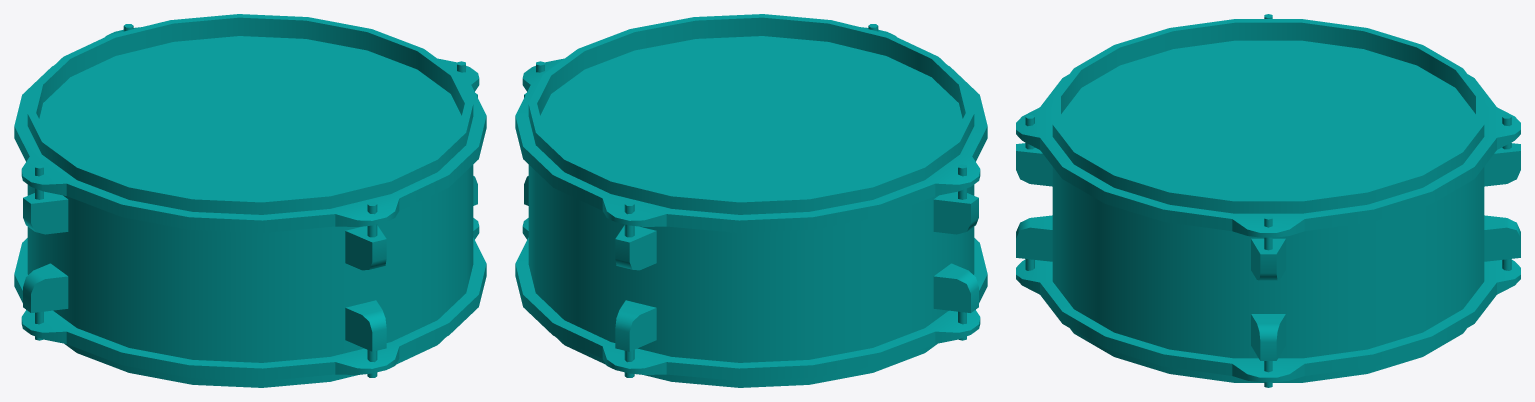
The model's file is drum1.fbx.
The picture shows the model from 3 angles, left to right: view 1: azimuth 30°, elevation 25°; view 2: azimuth 150°, elevation 25°; view 3: azimuth 270°, elevation 25°; orthographic projection. The views are drawn at different scales.
Parts seen in each view (by area): view 1: drum1; view 2: drum1; view 3: drum1.
Boxes of the visible parts, x1=… form: drum1: x1=14, y1=14, x2=486, y2=387; drum1: x1=515, y1=14, x2=987, y2=387; drum1: x1=1016, y1=14, x2=1520, y2=387.
Size of the model in its own units: 35.73 by 14.17 by 35.73.
